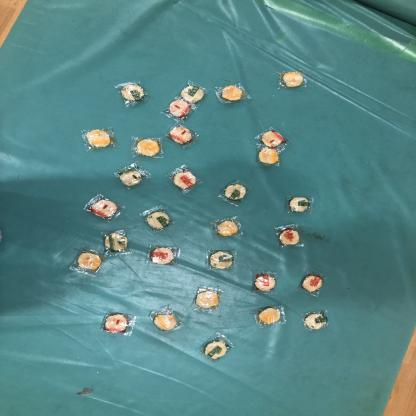green_setoshio: (114, 81, 151, 108), (198, 332, 232, 360), (114, 162, 149, 188), (217, 180, 252, 206), (296, 307, 331, 333), (101, 227, 132, 256), (205, 247, 238, 272), (282, 194, 315, 216), (142, 207, 172, 231), (178, 81, 209, 102)
red_setoshio: (82, 193, 122, 221), (98, 309, 136, 337), (252, 126, 290, 149), (166, 123, 198, 150), (296, 270, 328, 297), (167, 166, 199, 192), (249, 270, 281, 296), (163, 98, 198, 121), (273, 224, 301, 247), (150, 245, 180, 266)
yellow_setoshio: (149, 304, 183, 334), (68, 247, 104, 275), (189, 284, 225, 312), (80, 127, 118, 152), (255, 303, 288, 329), (132, 135, 166, 158), (210, 216, 245, 238), (278, 70, 311, 92), (254, 148, 286, 168), (218, 84, 248, 105)
